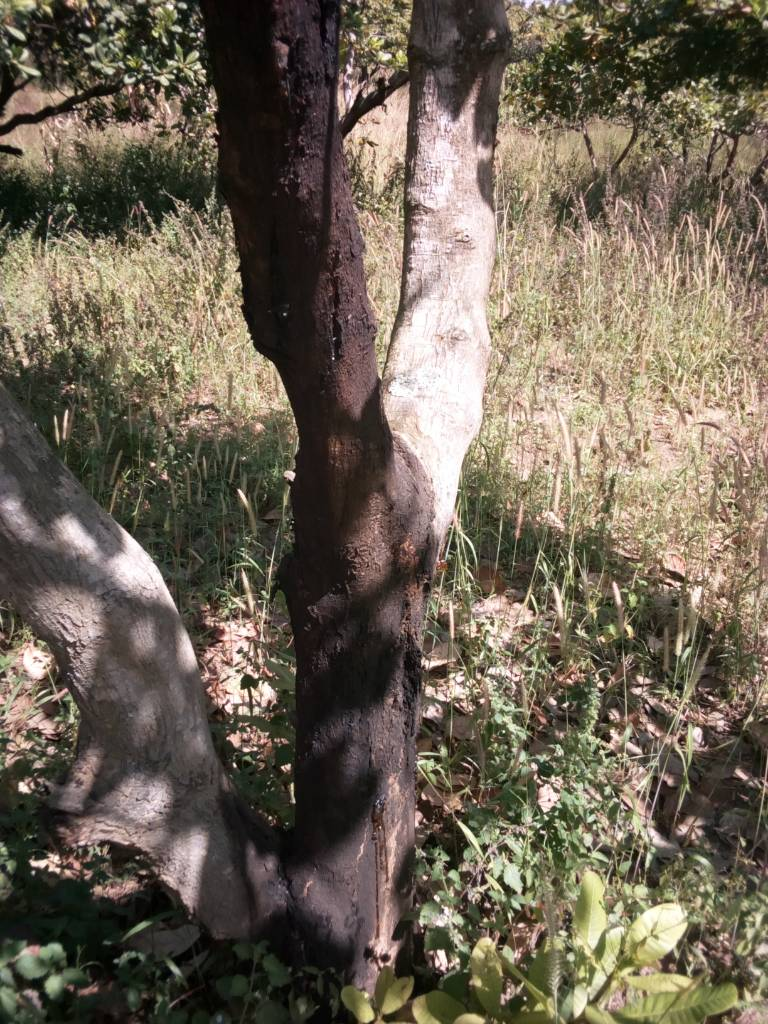Gommose: (286, 488, 421, 955), (213, 8, 377, 389)
